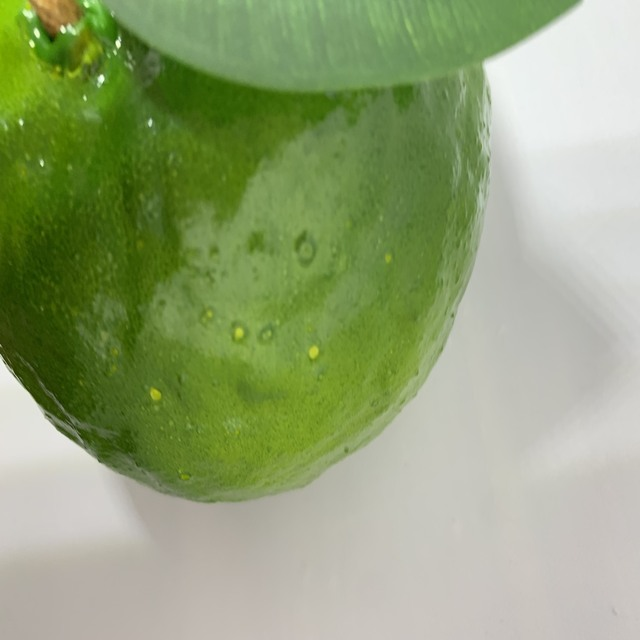Cam xanh: (0, 0, 505, 517)
